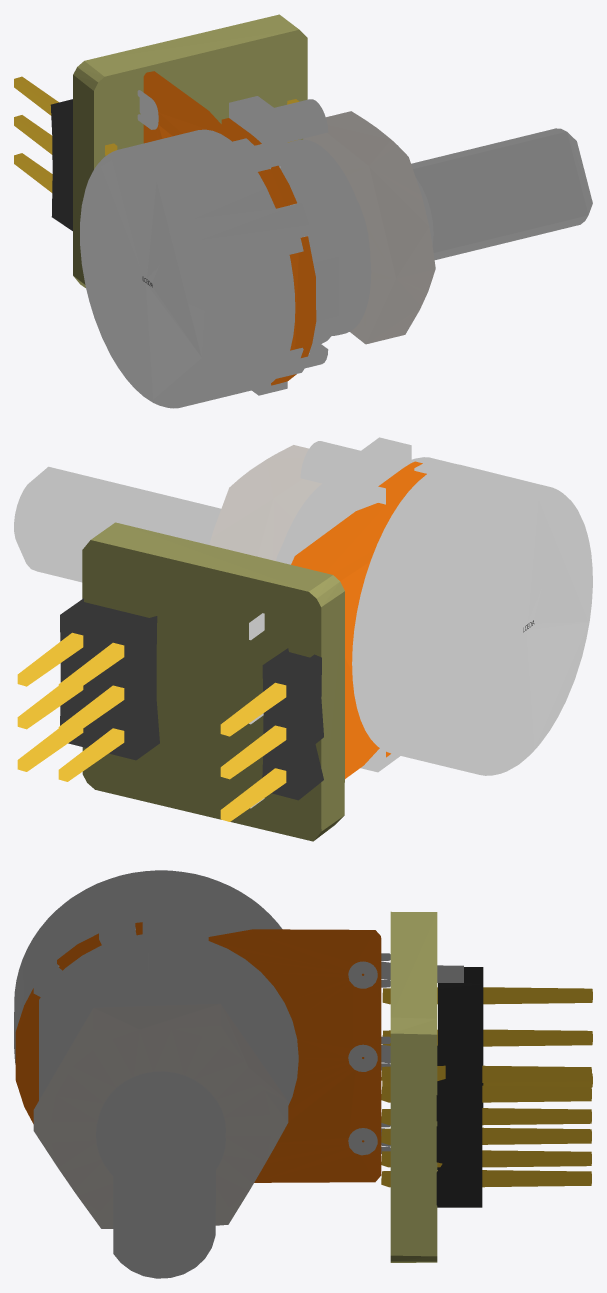
The model's file is OBJ_Breadboard potentiometer adapter- with power.obj.
3 views of the same model, one above another, from view 1: azimuth 30°, elevation 25°; view 2: azimuth 150°, elevation 25°; view 3: azimuth 270°, elevation 25° (orthographic). The views are drawn at different scales.
Size of the model in its own units: 120 by 70.87 by 124.
